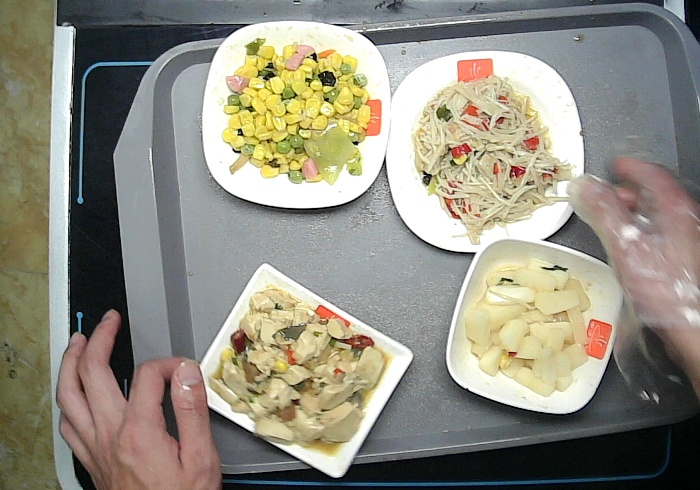SHKJ-Bai_Se_Cai_Die: (200, 17, 392, 211)
SHKJ-Bai_Se_Si_Fang_Cai_Die: (384, 47, 588, 253)
SHKJ-Bai_Se_Xiao_Fang_Die: (444, 233, 625, 415)
SHKJ-Si_Fang_Min: (196, 260, 417, 480)
